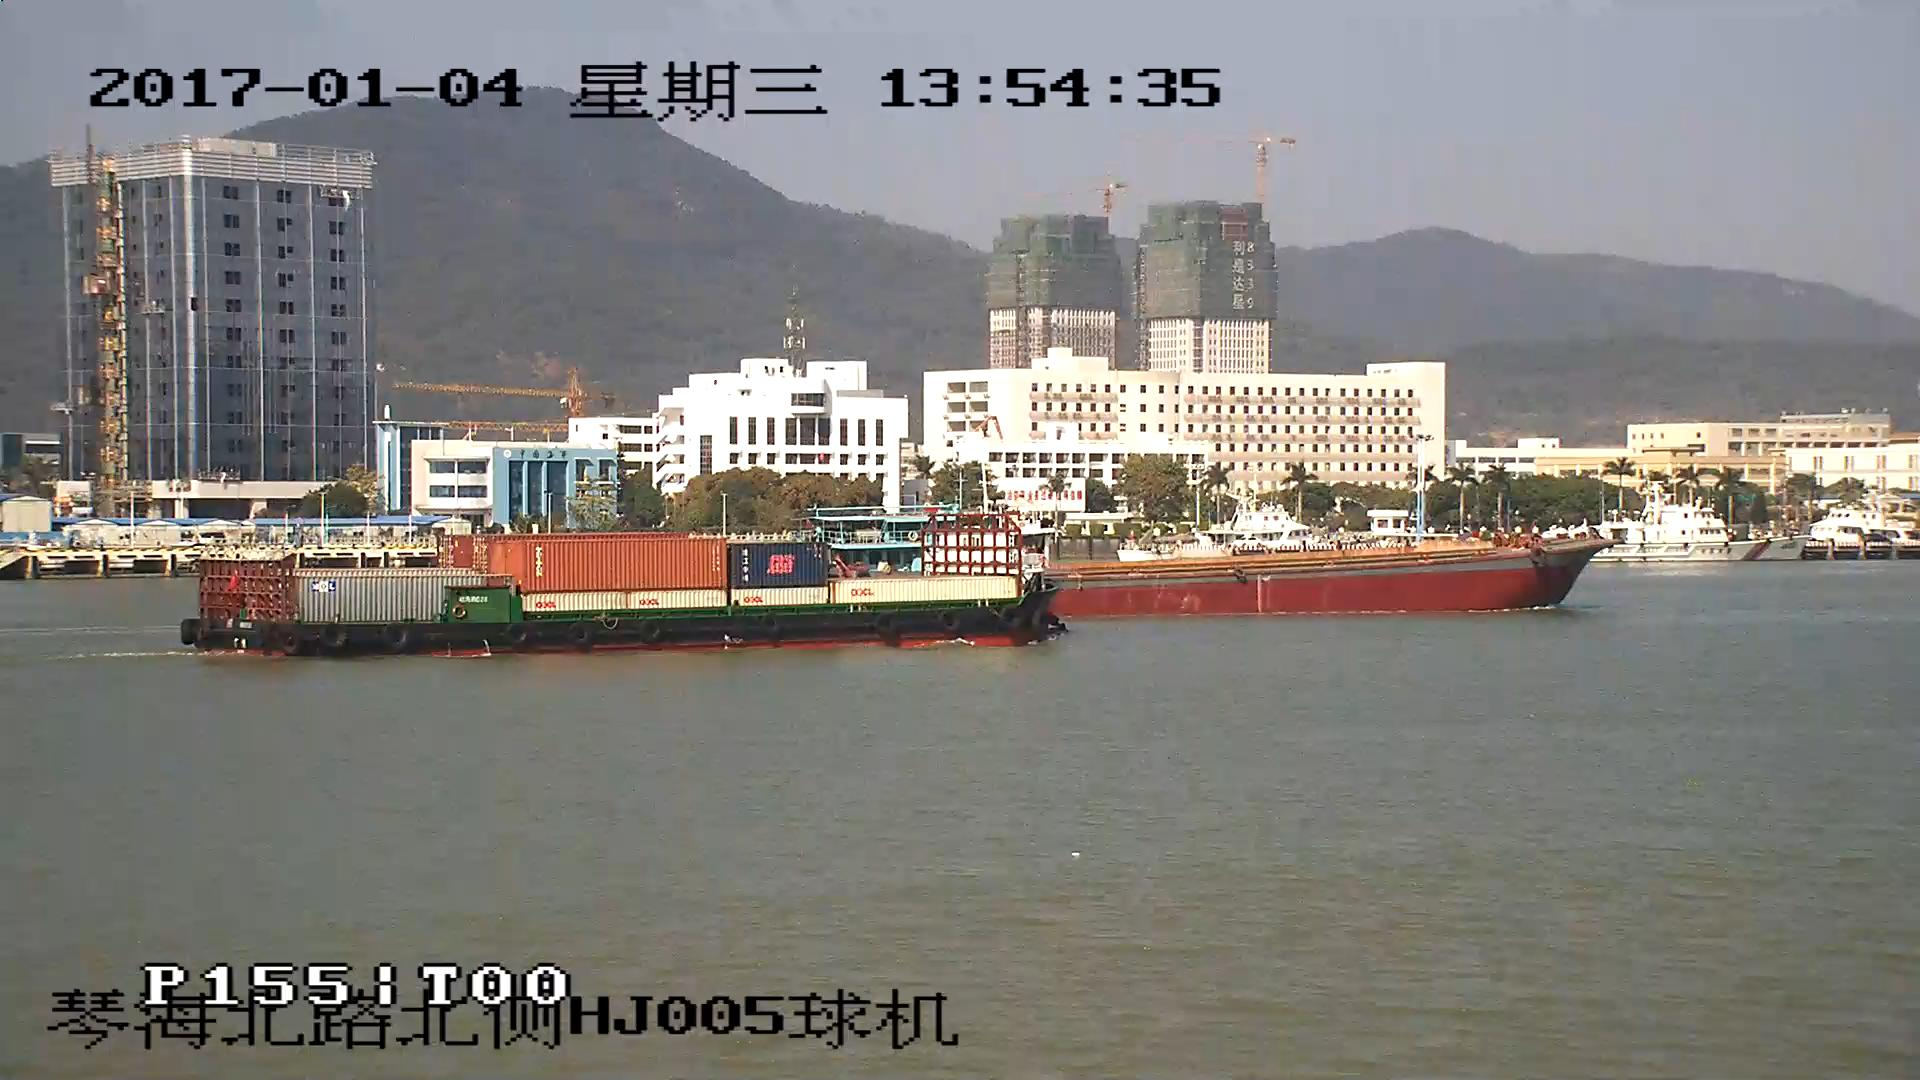bulk cargo carrier: (1059, 540, 1612, 615)
container ship: (182, 515, 1059, 657)
